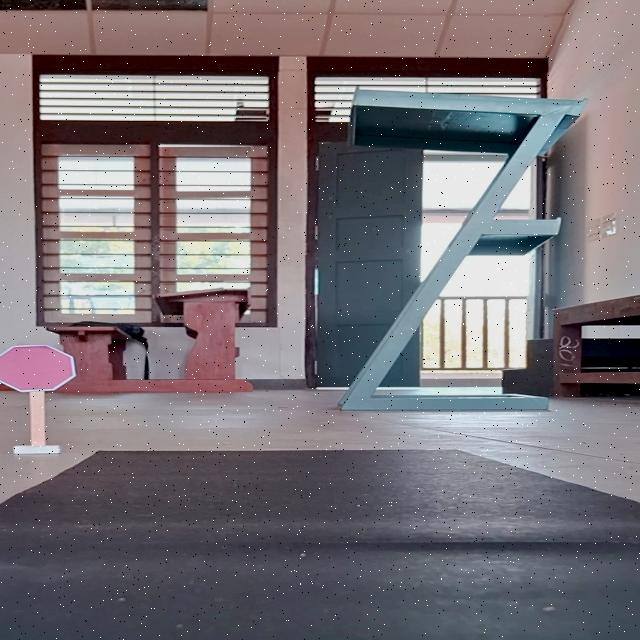Stop: (0, 342, 80, 393)
